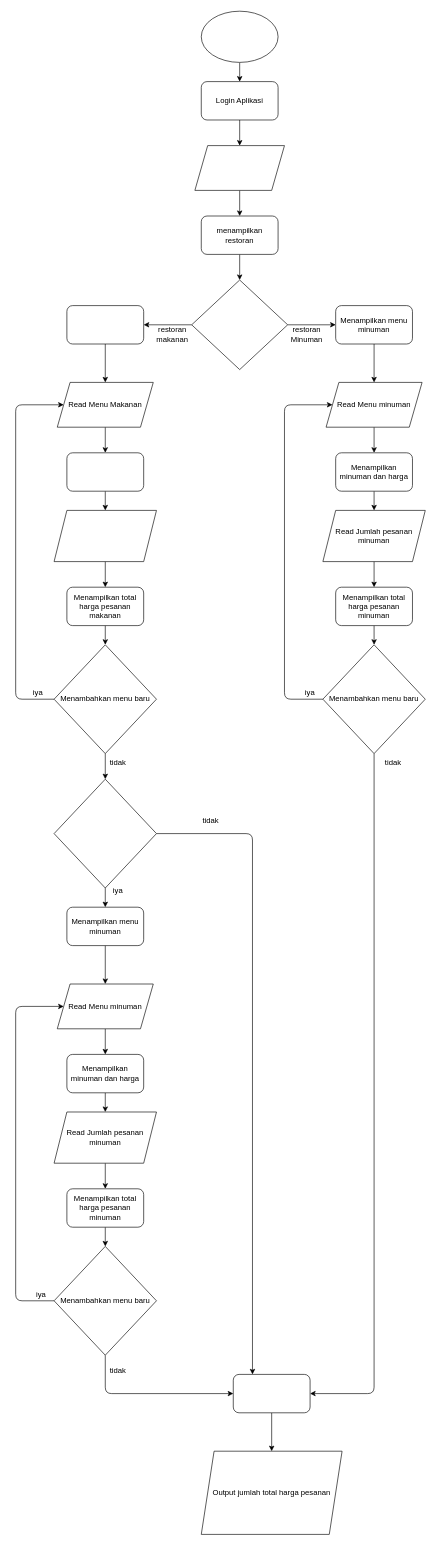
Some shapes in this 436 by 1546 pixel diagram are drawn without their labels. Each missing label, with the centre of its shape:
Menambahkan menu baru minuman: [104,833]
Menampilkan Makanan dan harga: [105,471]
Menampilkan menu makanan: [105,324]
Proses semuanya jumlah pesanan: [271,1393]
Read Jumlah pesanan makanan: [104,536]
read nama restoran: [239,167]
Restoran (makanan/minuman): [239,324]
Start: [239,36]
